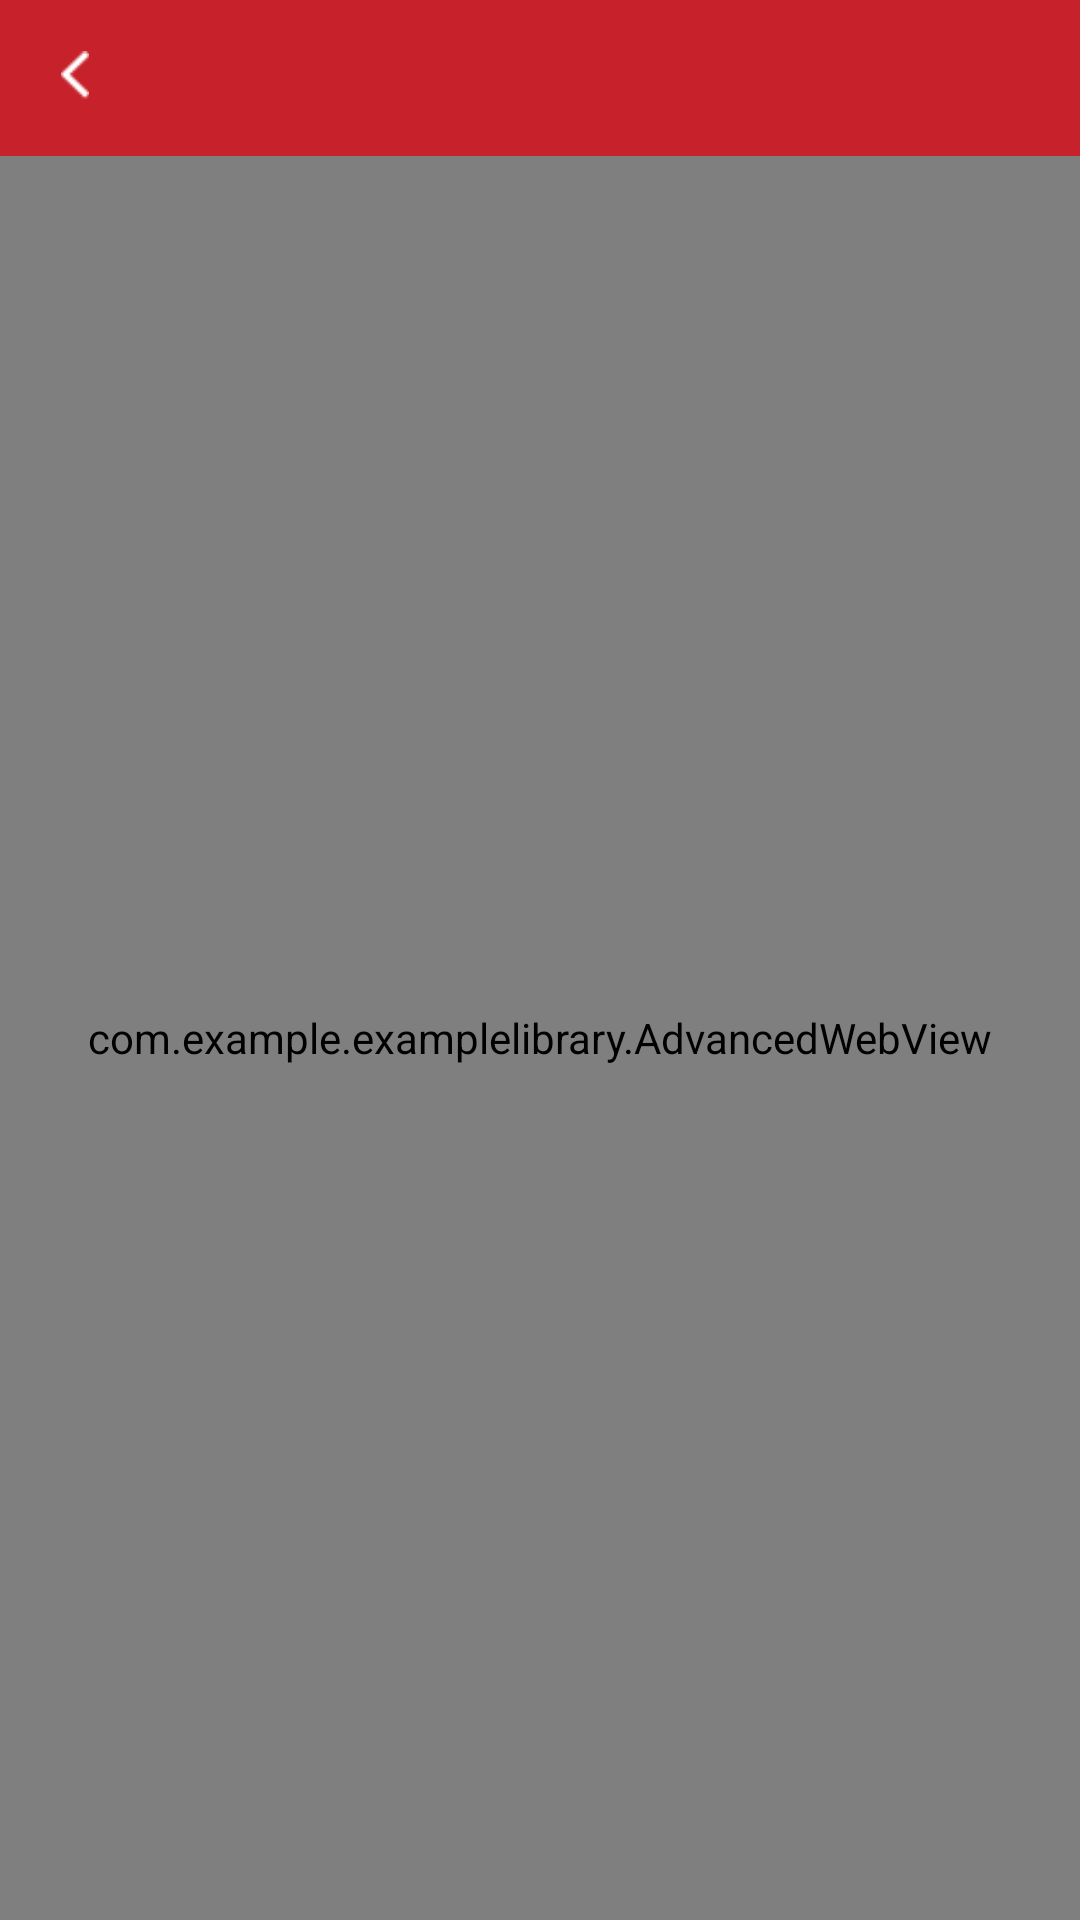

Icon click points for this 1080 × 1920 phone screenshot, format point (x, y):
back: point (75, 75)
